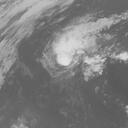cyclone: (43, 10, 127, 78)
